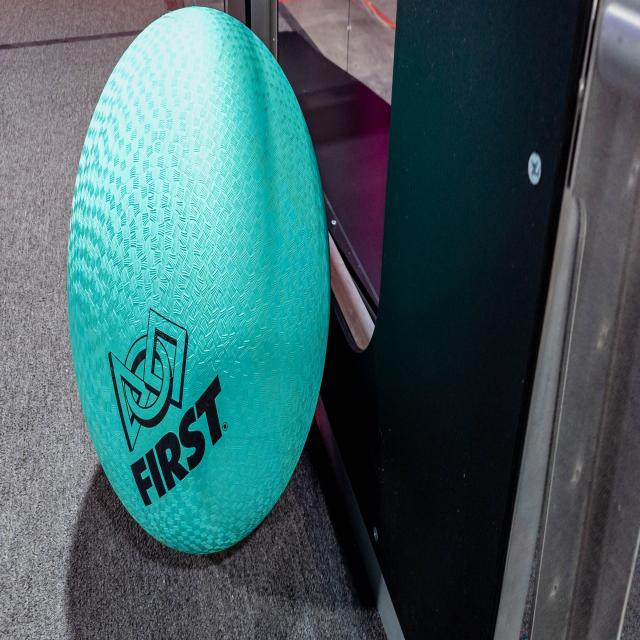Algae: (68, 9, 330, 555)
